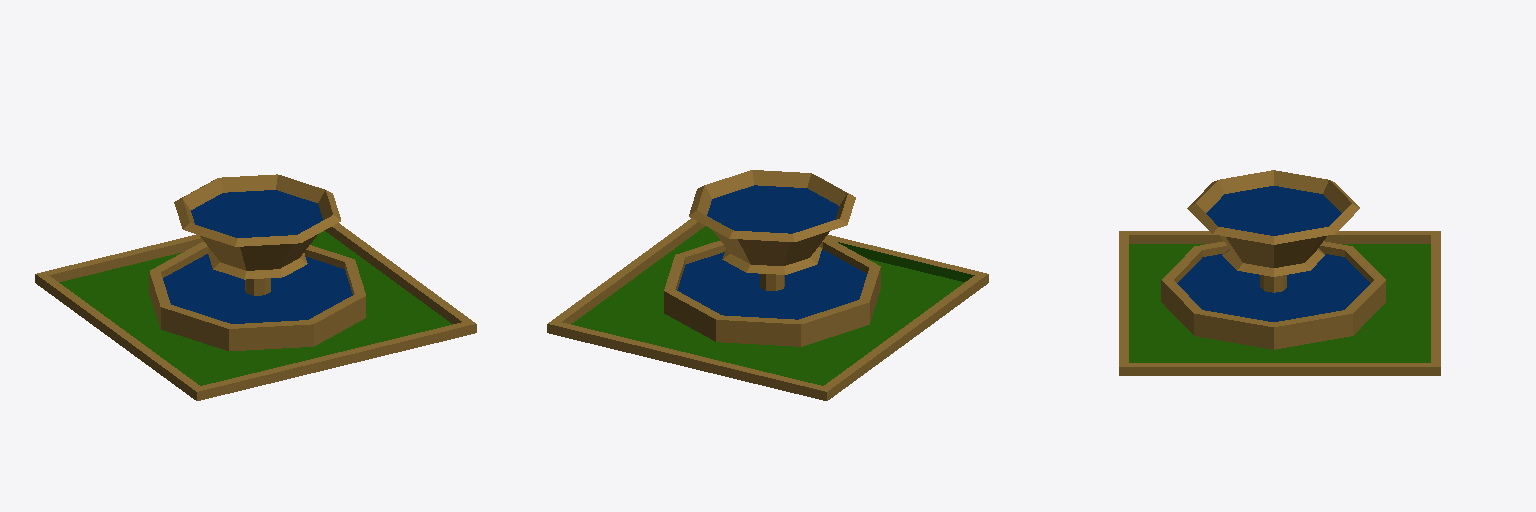
File: fountain.obj
3 views of the same model, side by side, from view 1: azimuth 30°, elevation 25°; view 2: azimuth 150°, elevation 25°; view 3: azimuth 270°, elevation 25° (orthographic).
Visible parts, largest first — view 1: ground.003; view 2: ground.003; view 3: ground.003.
Part boxes in pixels (bbox=[...]): ground.003: bbox=[35, 174, 476, 400]; ground.003: bbox=[547, 170, 988, 400]; ground.003: bbox=[1119, 170, 1440, 375].
Bounding box in the file's own units: 3.81 × 1.36 × 3.81.